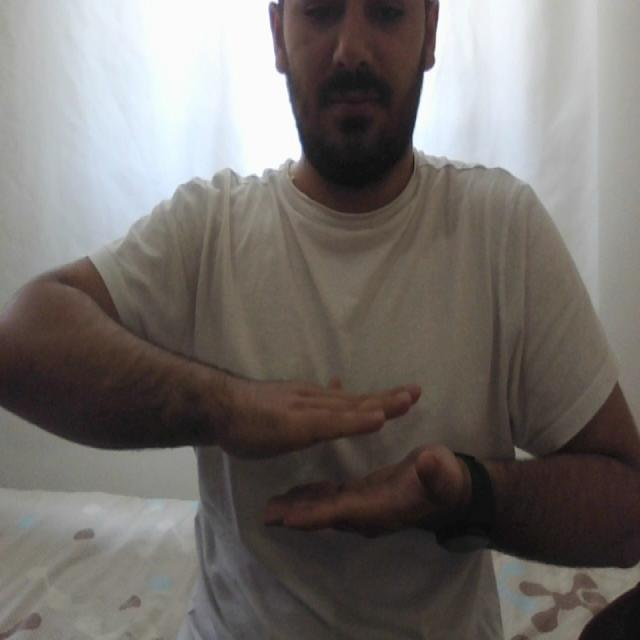Arkadas: (105, 374, 625, 547)
